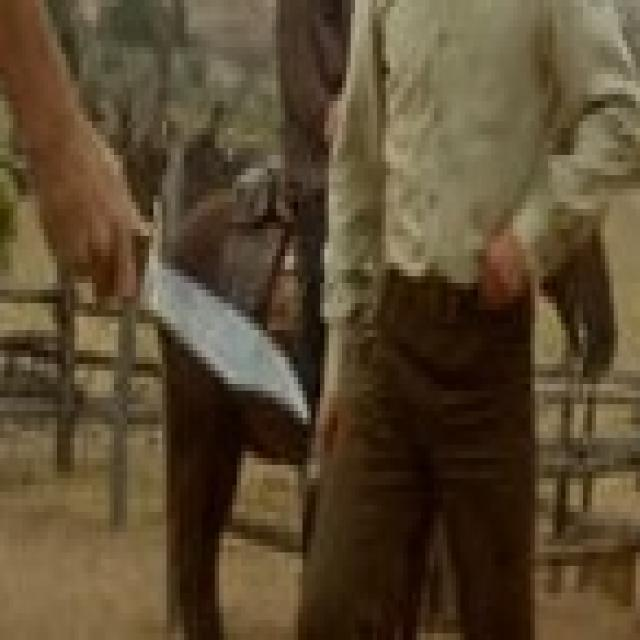knife: (126, 228, 317, 436)
